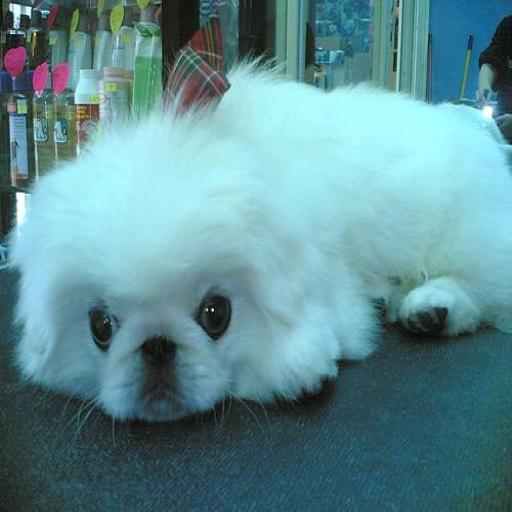dog_face: (23, 164, 318, 414)
